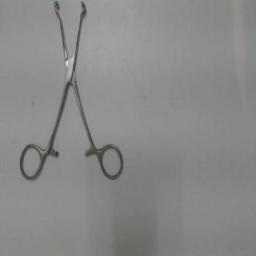Babcock Tissue Forceps: (18, 0, 128, 186)
